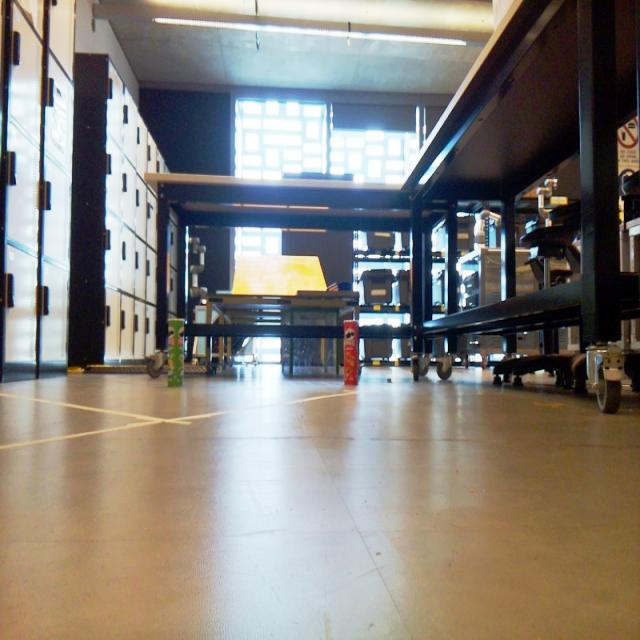greenpringles: (152, 298, 198, 395)
redpringles: (331, 302, 370, 387)
